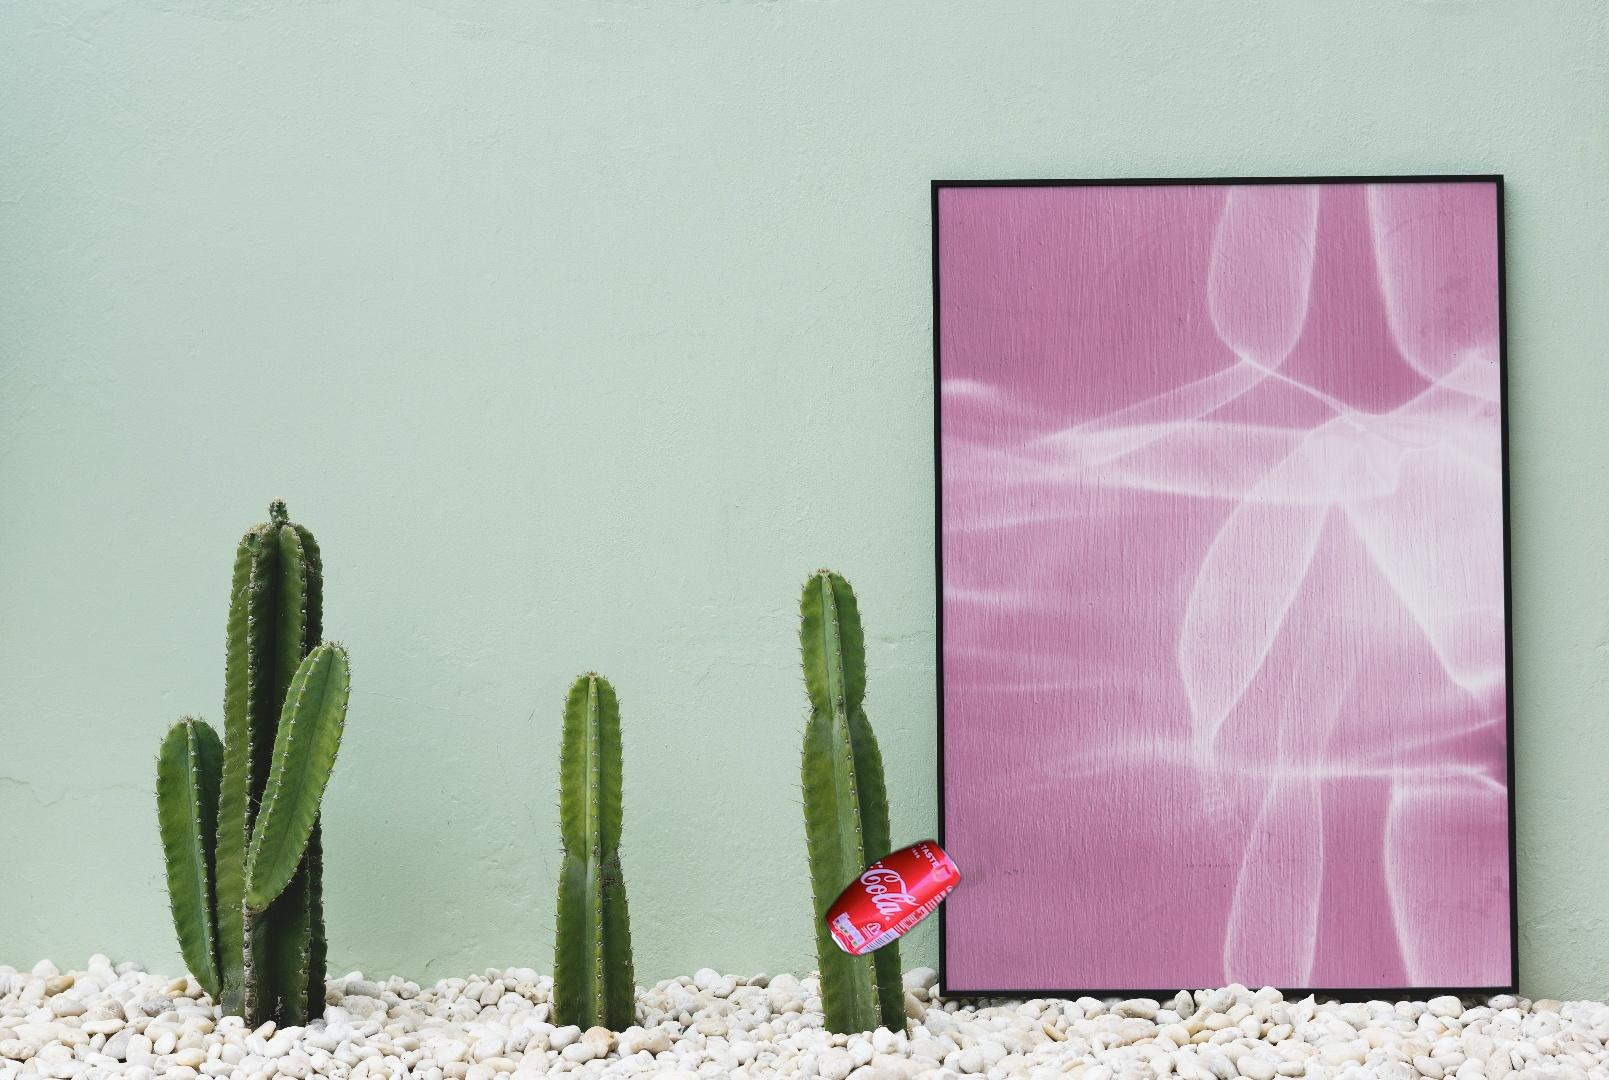metal-cans: (820, 833, 965, 963)
